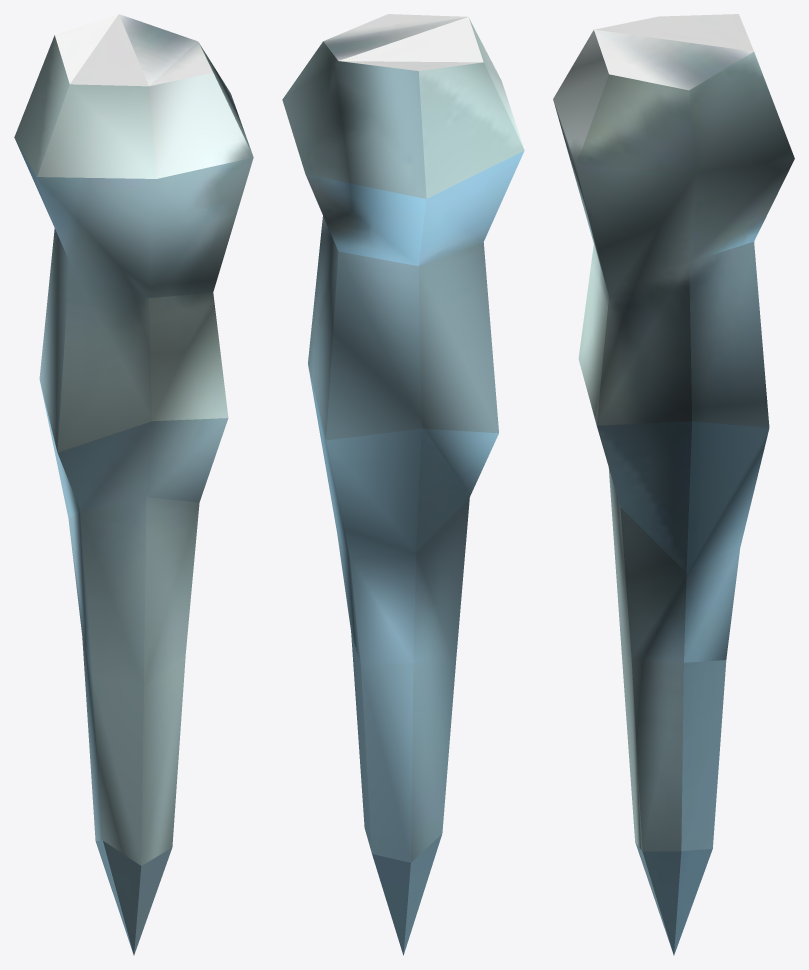
Rendered from Icicle.glb.
3 renders of one model, left to right at view 1: azimuth 30°, elevation 25°; view 2: azimuth 150°, elevation 25°; view 3: azimuth 270°, elevation 25°, orthographic.
Visible parts, largest first — view 1: icicle; view 2: icicle; view 3: icicle.
Boxes of the visible parts, x1=… form: icicle: x1=14, y1=14, x2=253, y2=955; icicle: x1=282, y1=14, x2=524, y2=955; icicle: x1=553, y1=14, x2=794, y2=955.
Bounding box in the file's own units: 0.3525 × 1.41 × 0.3373.
Materials: 1 (1 with a texture image).
